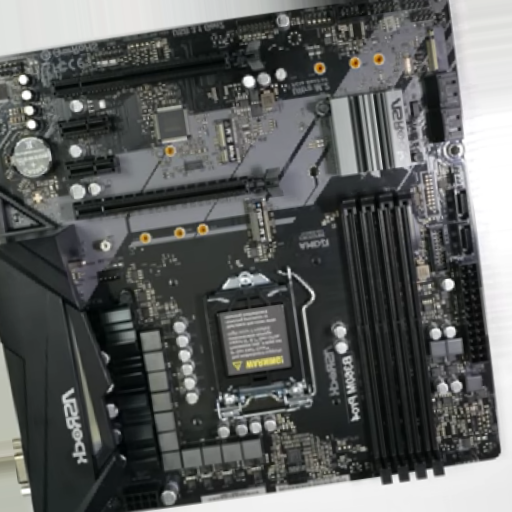CPU: (204, 271, 315, 421)
GPU: (51, 38, 266, 97), (74, 168, 285, 220)
MOTHERBOARD: (1, 1, 500, 511)
RAM: (337, 192, 447, 484)
SSD: (244, 197, 272, 246), (212, 119, 242, 163), (426, 27, 446, 71)
